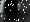person: (1, 1, 9, 15), (16, 2, 23, 11)
